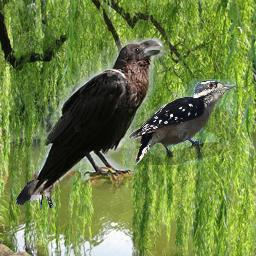Crow: (28, 38, 167, 195)
Woodpecker: (126, 79, 237, 165), (16, 170, 56, 210)
